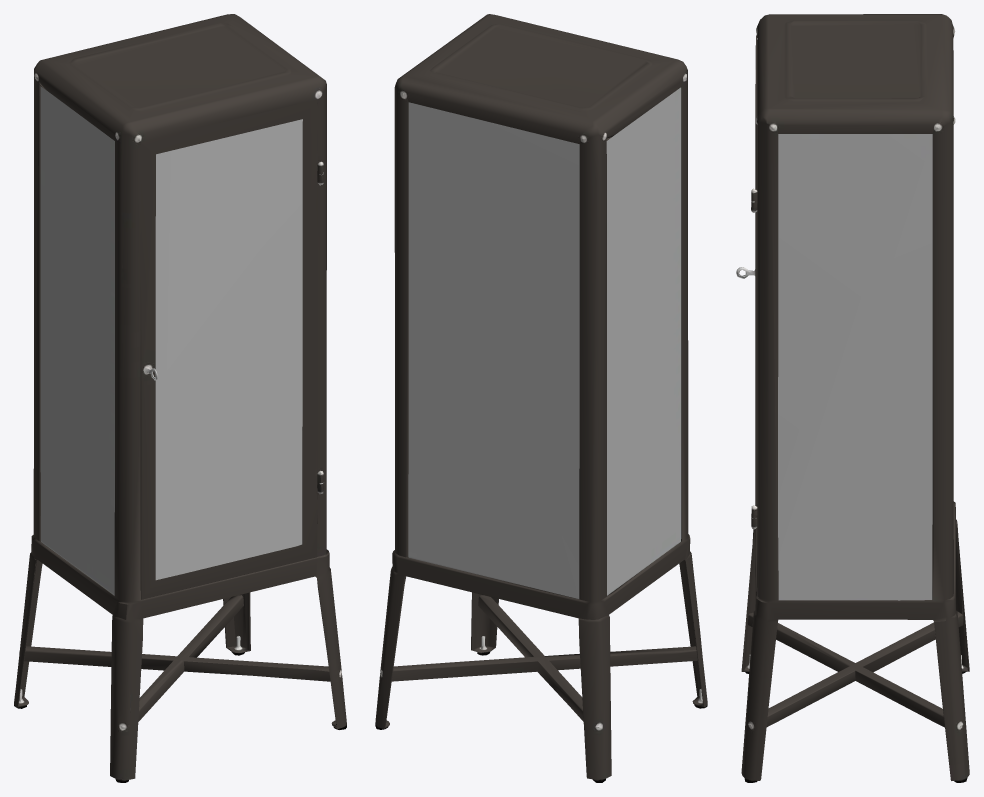
Rendered from 13 - FABRIKÖR - 玻璃門櫃, 深灰色, 57x150 公分 IKEA 線上購物.glb.
The picture shows the model from 3 angles, left to right: view 1: azimuth 30°, elevation 25°; view 2: azimuth 150°, elevation 25°; view 3: azimuth 270°, elevation 25°; orthographic projection. The views are drawn at different scales.
Parts seen in each view (by area): view 1: ProcessedMeshNode; view 2: ProcessedMeshNode; view 3: ProcessedMeshNode.
Part boxes in pixels (x1=…): ProcessedMeshNode: x1=14, y1=14, x2=346, y2=782; ProcessedMeshNode: x1=375, y1=14, x2=707, y2=782; ProcessedMeshNode: x1=736, y1=14, x2=969, y2=782.
Size of the model in its own units: 0.5698 by 1.51 by 0.4804.
2 materials, 2 textured.
